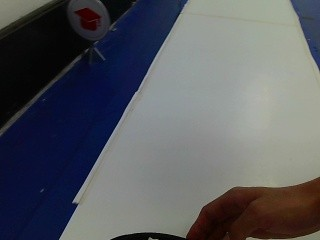school: (64, 0, 109, 42)
